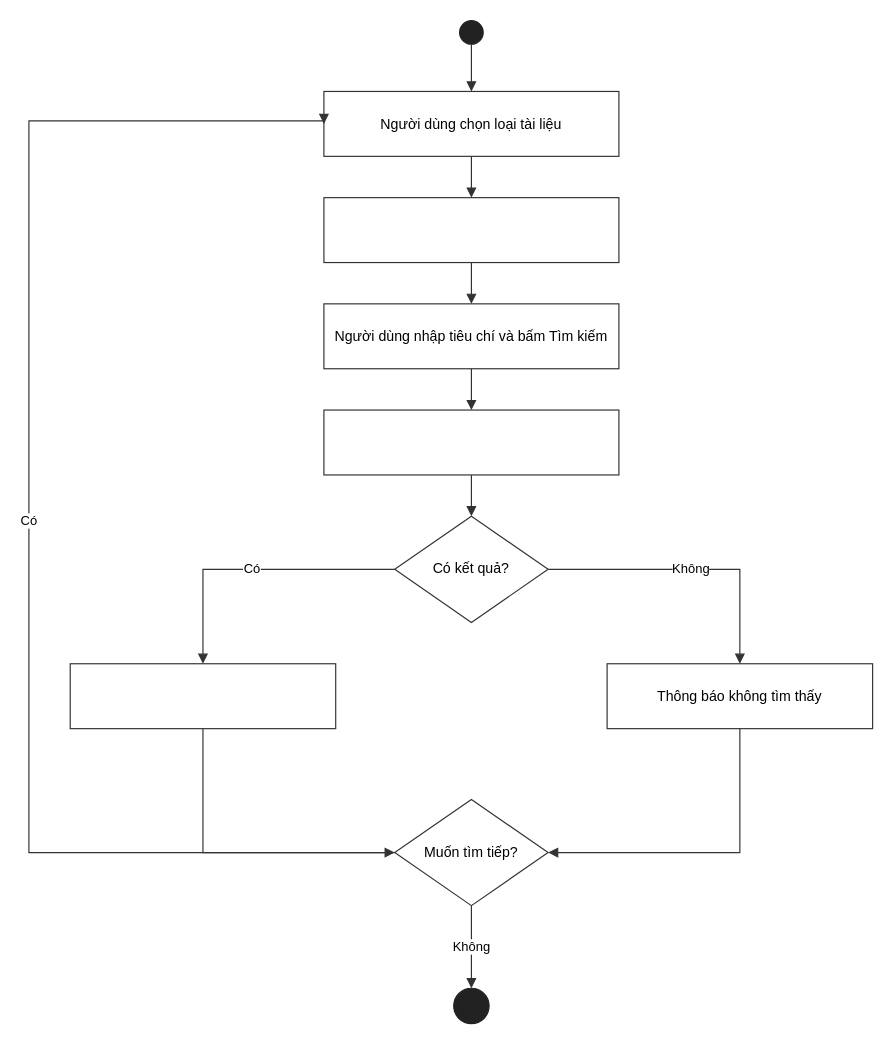
This 893x1044 diagram has some shape labels left out. The centre of each missing label's shape, as x and y in pixels:
Hiển thị danh sách tài liệu: [202,696]
Hệ thống hiển thị biểu mẫu tìm kiếm: [471,229]
Hệ thống truy vấn danh mục: [471,442]
